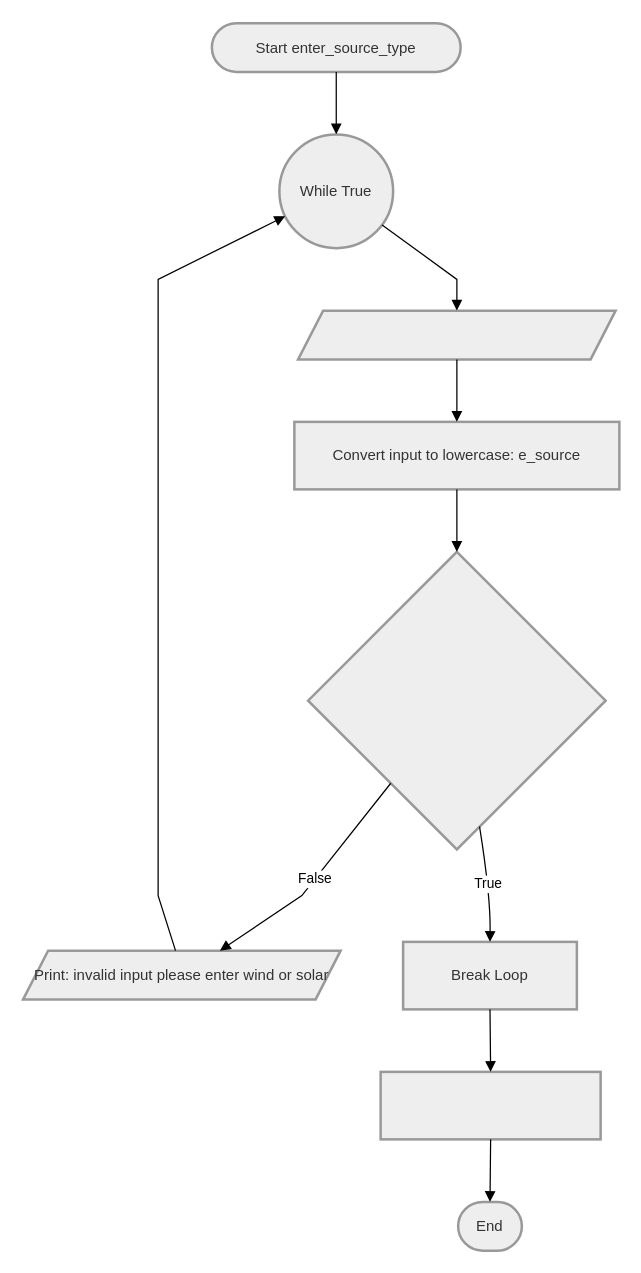
Some shapes in this 641 by 1273 pixel diagram are drawn without their labels. Each missing label, with the centre of its shape:
"e_source == 'wind' OR e_source == 'solar'?" belongs at point (456, 700).
"Prompt: Enter Energy source type" belongs at point (456, 334).
"Return e_source" belongs at point (490, 1105).
